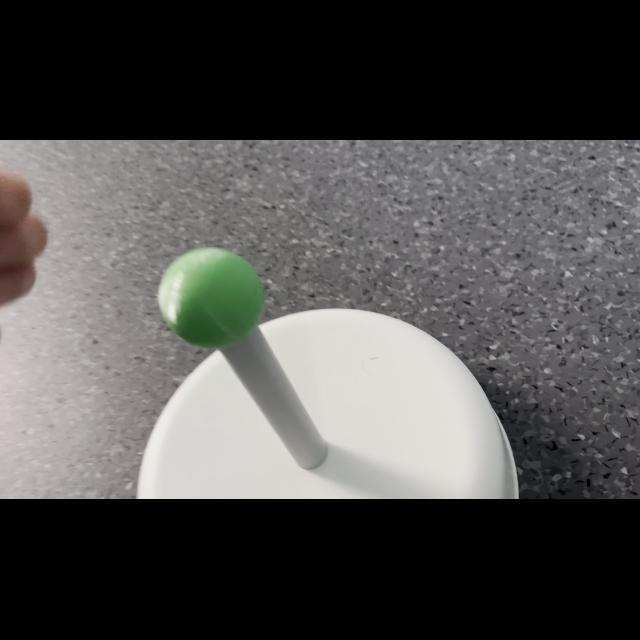objects: (148, 240, 272, 356)
